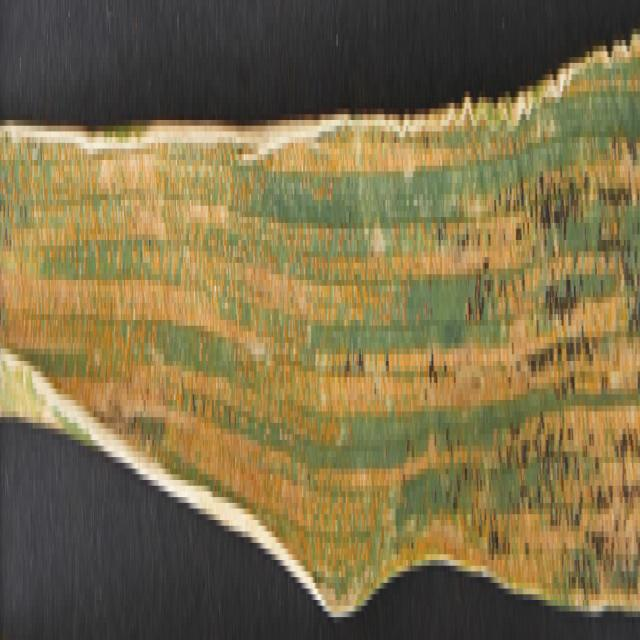leaf rust: (1, 85, 638, 606)
